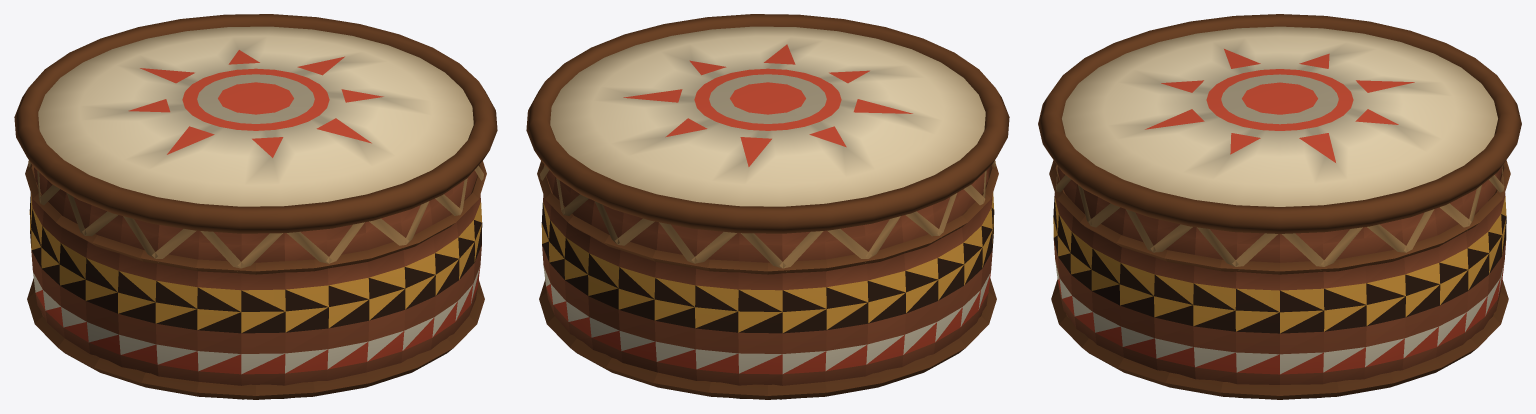
The model's file is bounce_drum.glb.
The picture shows the model from 3 angles, left to right: view 1: azimuth 30°, elevation 25°; view 2: azimuth 150°, elevation 25°; view 3: azimuth 270°, elevation 25°; orthographic projection.
Parts seen in each view (by area): view 1: top, bounce_drum; view 2: top, bounce_drum; view 3: top, bounce_drum.
Part boxes in pixels (<box>): top: <box>14,14,497,233</box>; bounce_drum: <box>25,160,486,399</box>; top: <box>526,14,1009,233</box>; bounce_drum: <box>537,160,998,399</box>; top: <box>1038,14,1521,233</box>; bounce_drum: <box>1049,160,1510,399</box>.
Size of the model in its own units: 1.64 by 0.804 by 1.64.
